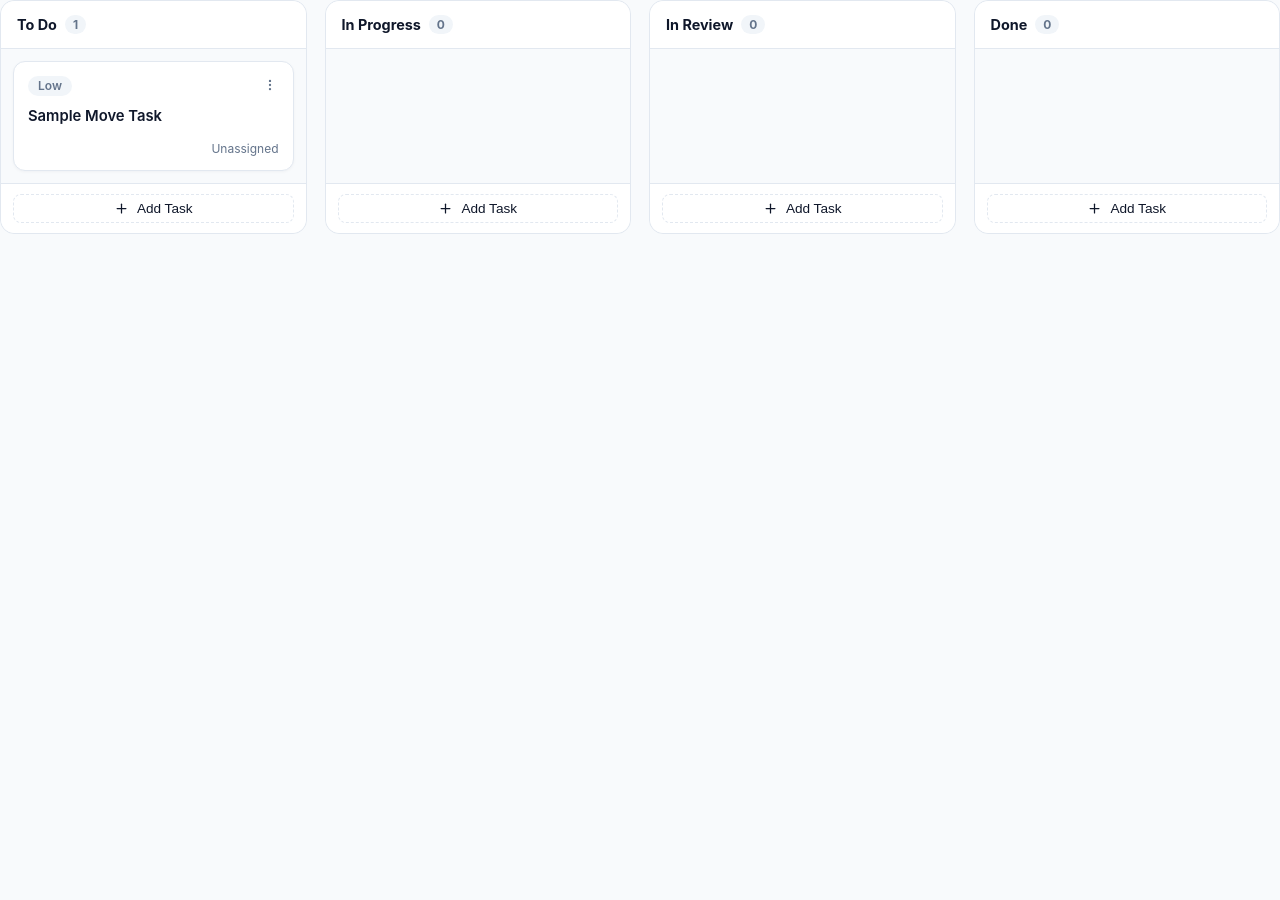
Test: KanbanBoard Move & Rollback › puts the task back in its original column and shows an error when moving fails
The image size is (1280, 900).
Click the button named "Move task" at (270, 85), box [260, 76, 278, 94]
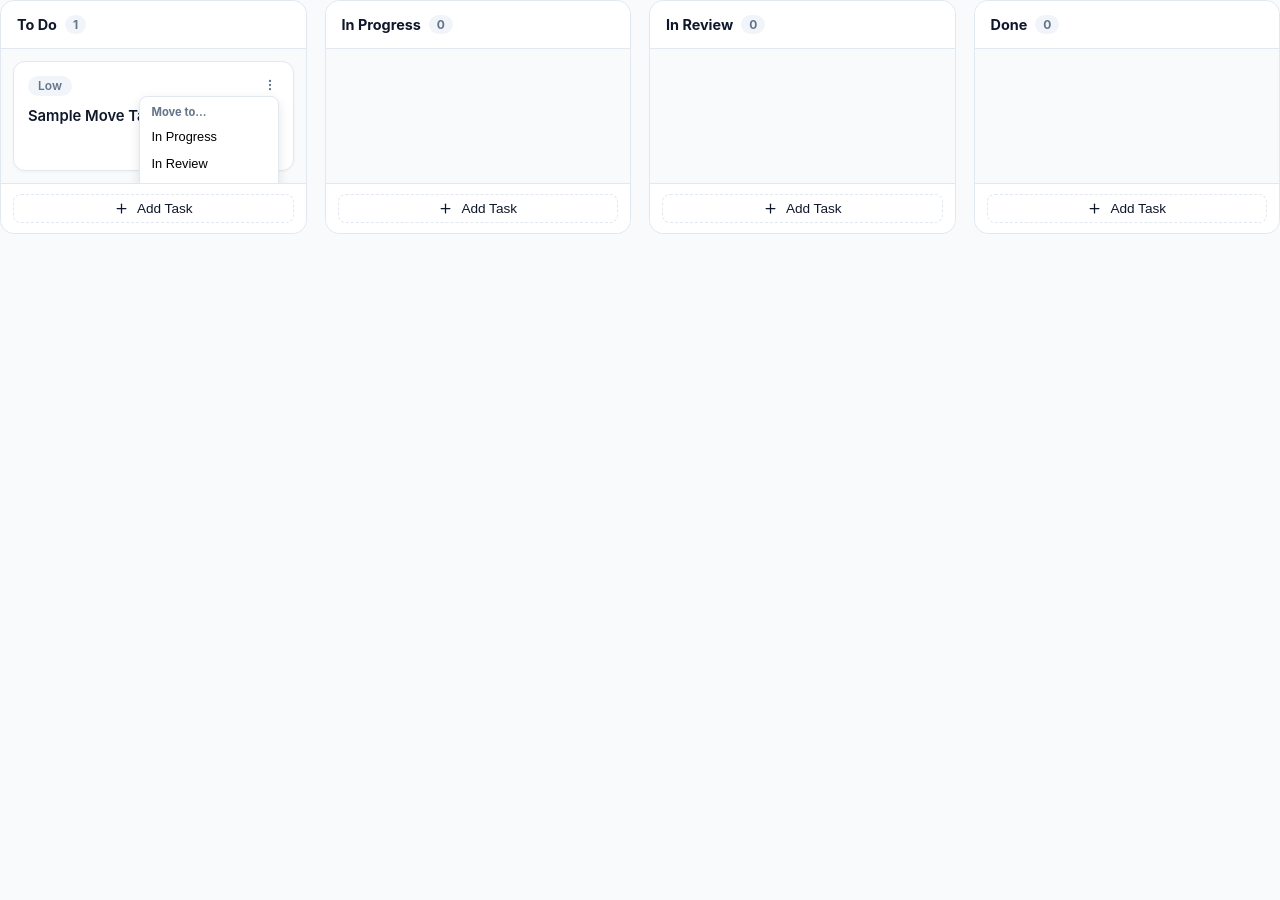
Click the button "In Progress" at (208, 136), box [144, 123, 274, 150]
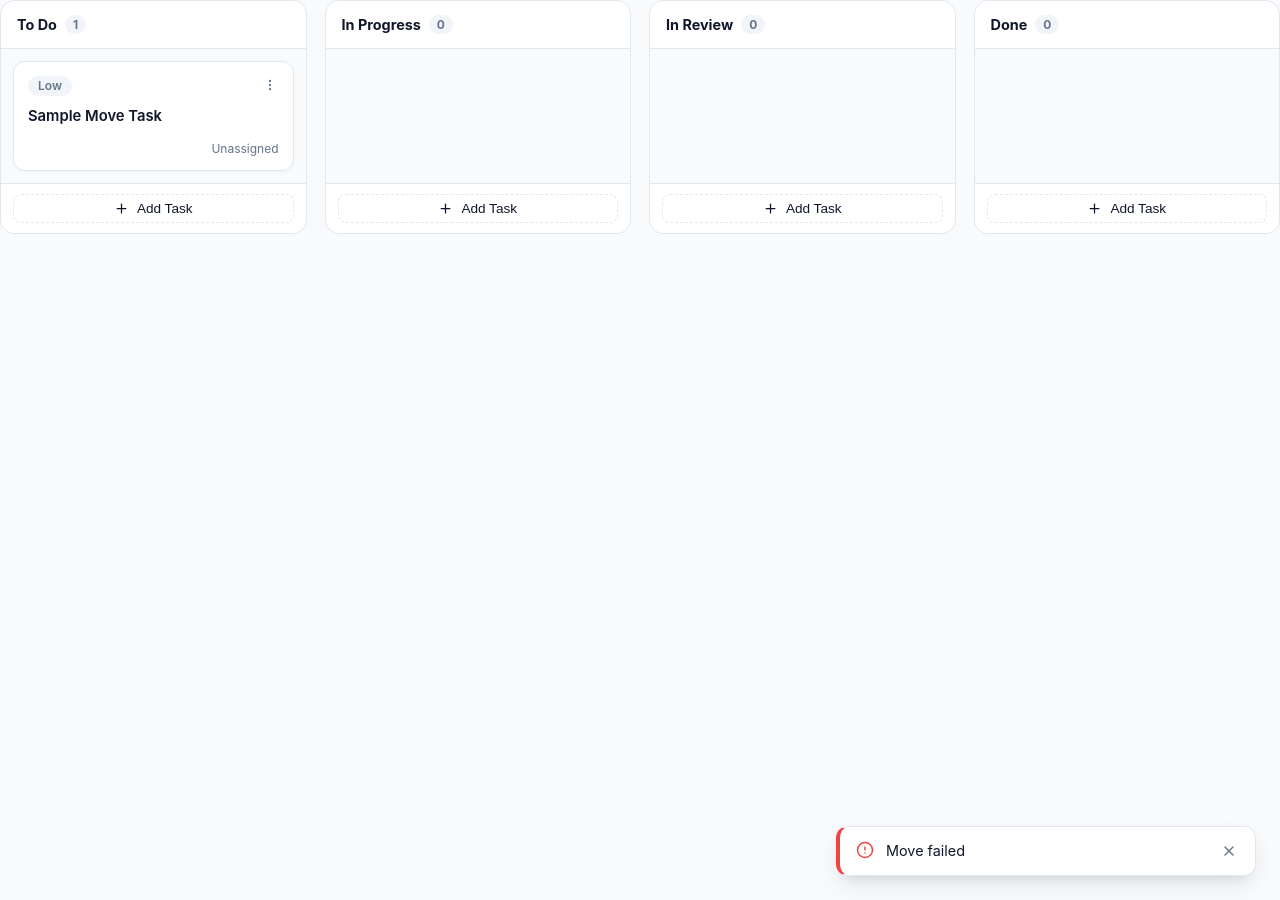
Expected: the text "To Do" is shown, [17, 16, 57, 33]
Expected: the text "Move failed" is shown, [886, 842, 965, 859]
